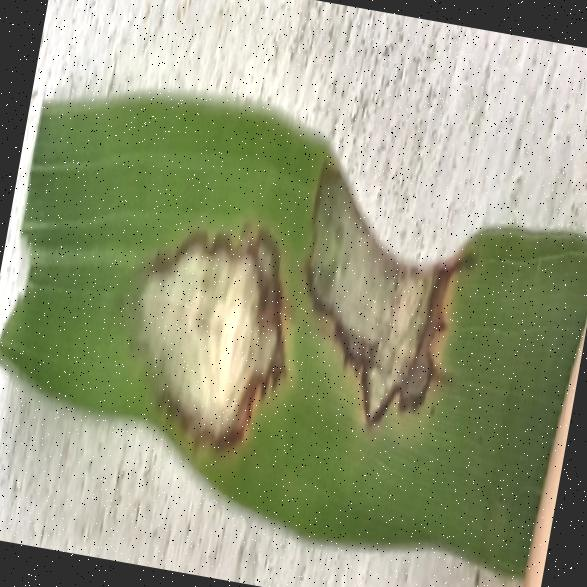Leaf_smut: (95, 118, 480, 490)
